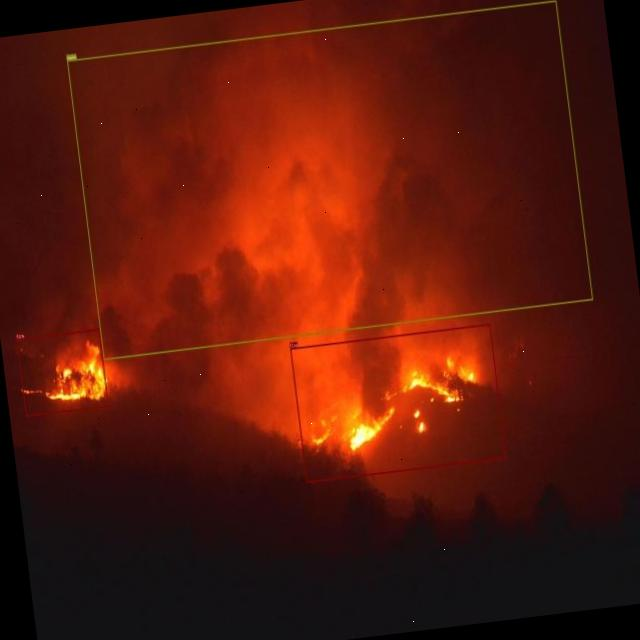fire: (289, 323, 506, 483), (16, 328, 108, 417)
smoke: (67, 0, 592, 360)
